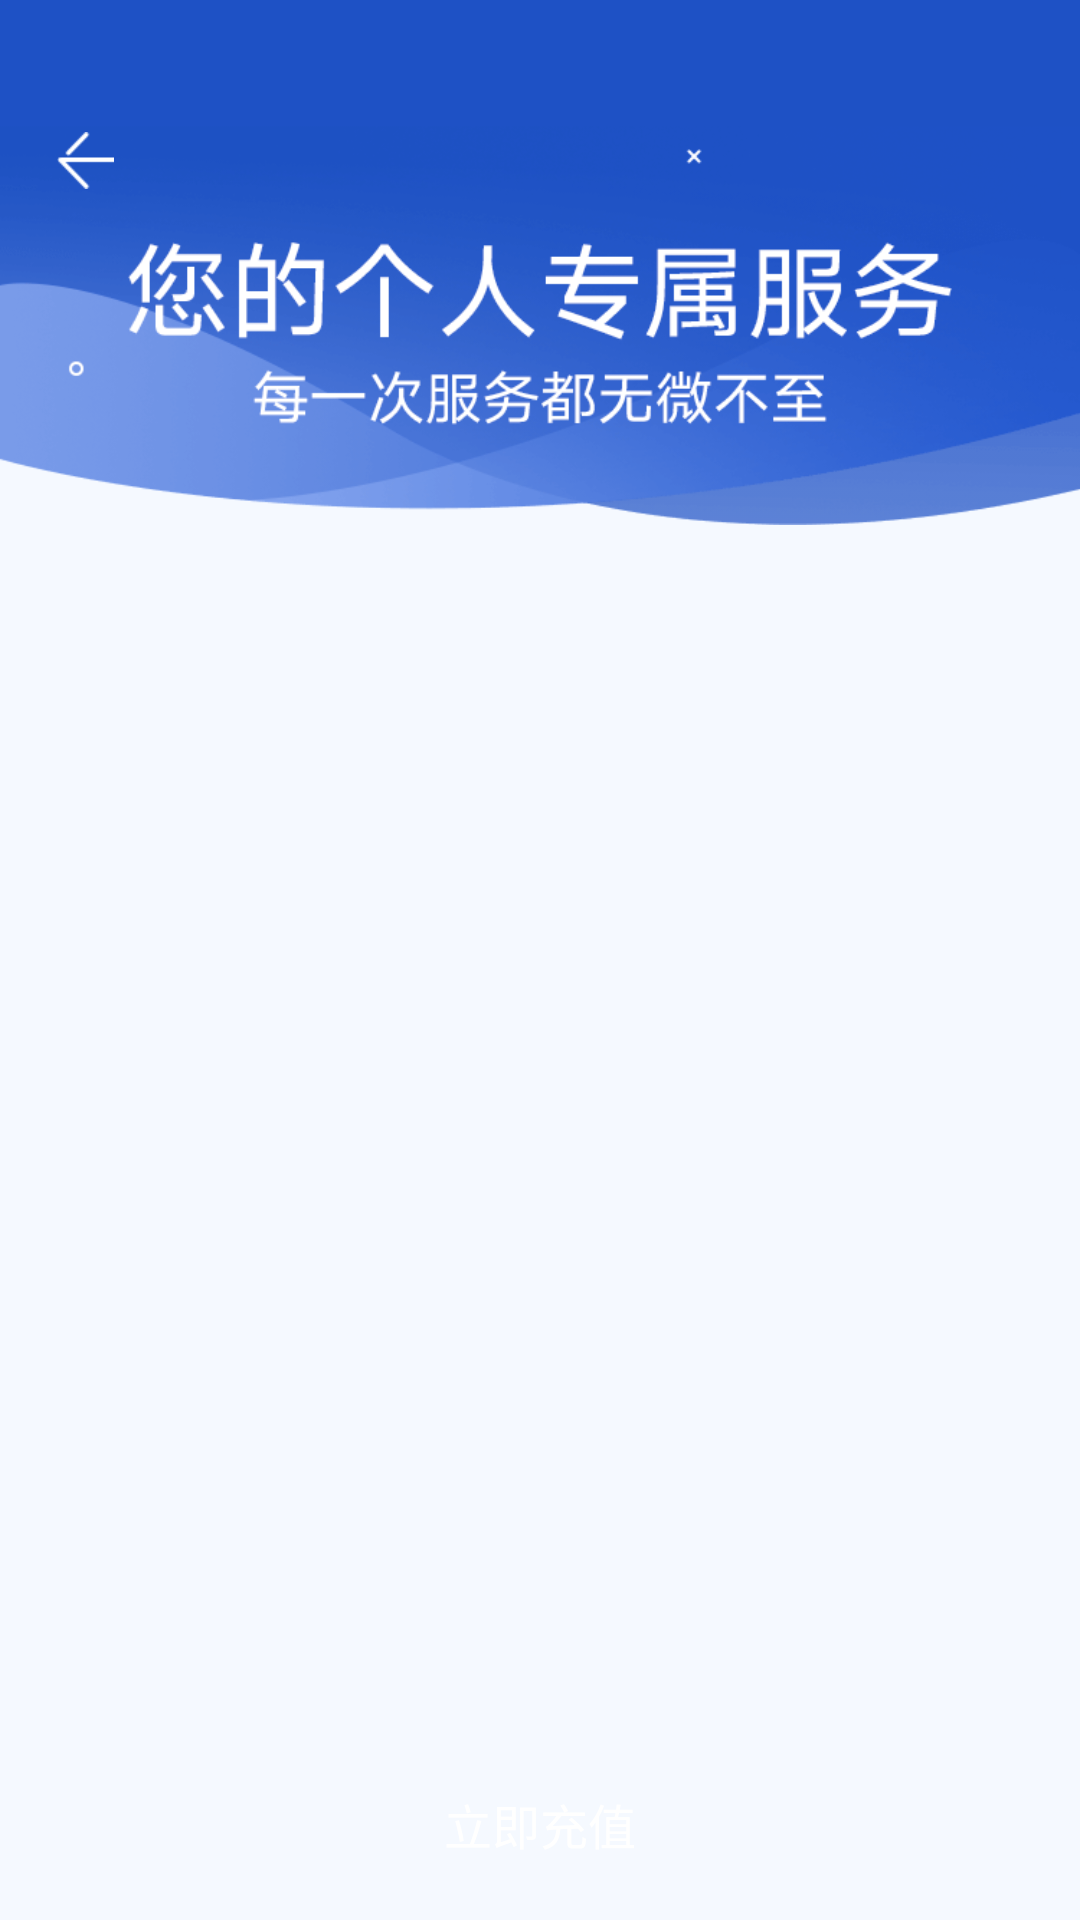

Point at icon controls on the screen. Image size 1080px x 1920px, points as (x=x, y=y).
back: (x=85, y=160)
